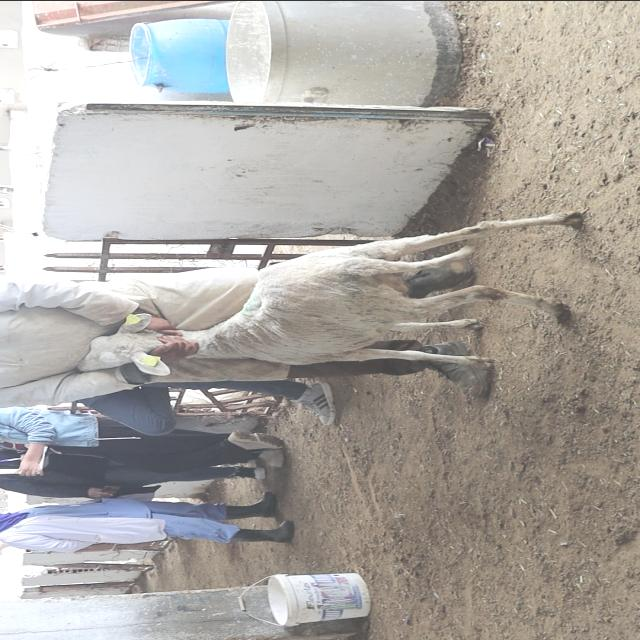Score_1: (179, 211, 580, 363)
